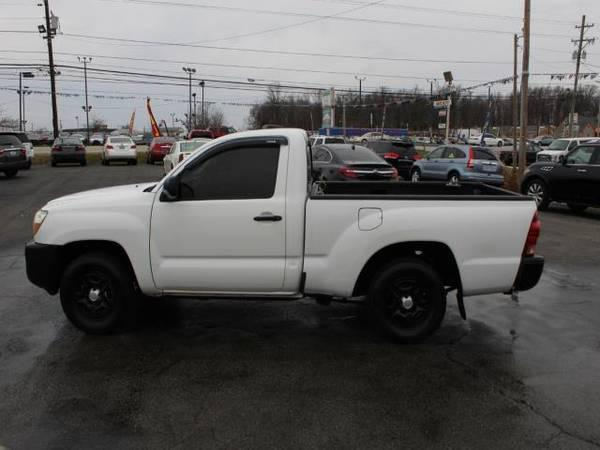Front_Bumper: (22, 242, 62, 300)
Front_Fender: (33, 201, 159, 294)
Front_Left_Door: (150, 197, 307, 295)
Front_Left_Window: (154, 130, 305, 202)
Hood: (41, 182, 155, 209)
Left_Headlight: (523, 213, 541, 258), (32, 213, 49, 240)
Rear_Bumper: (510, 255, 544, 291)
Rear_Fender: (302, 198, 538, 294)
Wheel: (372, 264, 446, 340), (61, 252, 134, 326)
